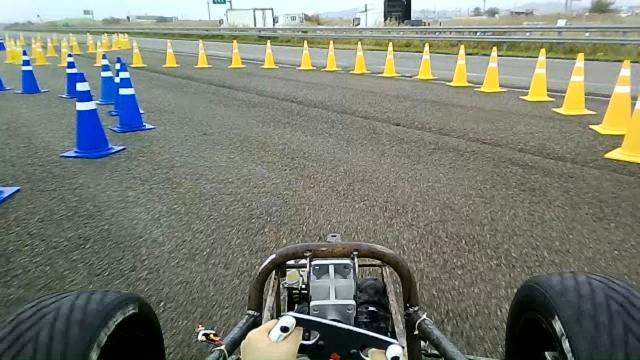blue cone: (59, 80, 126, 159), (108, 86, 155, 133), (115, 59, 145, 114), (13, 49, 49, 94), (94, 49, 118, 108), (57, 50, 85, 100)
yellow cone: (588, 59, 633, 135), (551, 52, 596, 116), (519, 47, 555, 102), (474, 46, 507, 93), (446, 44, 474, 87), (411, 42, 438, 80), (376, 41, 401, 78), (349, 40, 371, 74), (321, 40, 342, 72), (296, 40, 316, 71), (260, 39, 279, 69), (128, 38, 147, 68), (227, 39, 246, 68), (162, 39, 180, 68), (194, 39, 212, 68)
